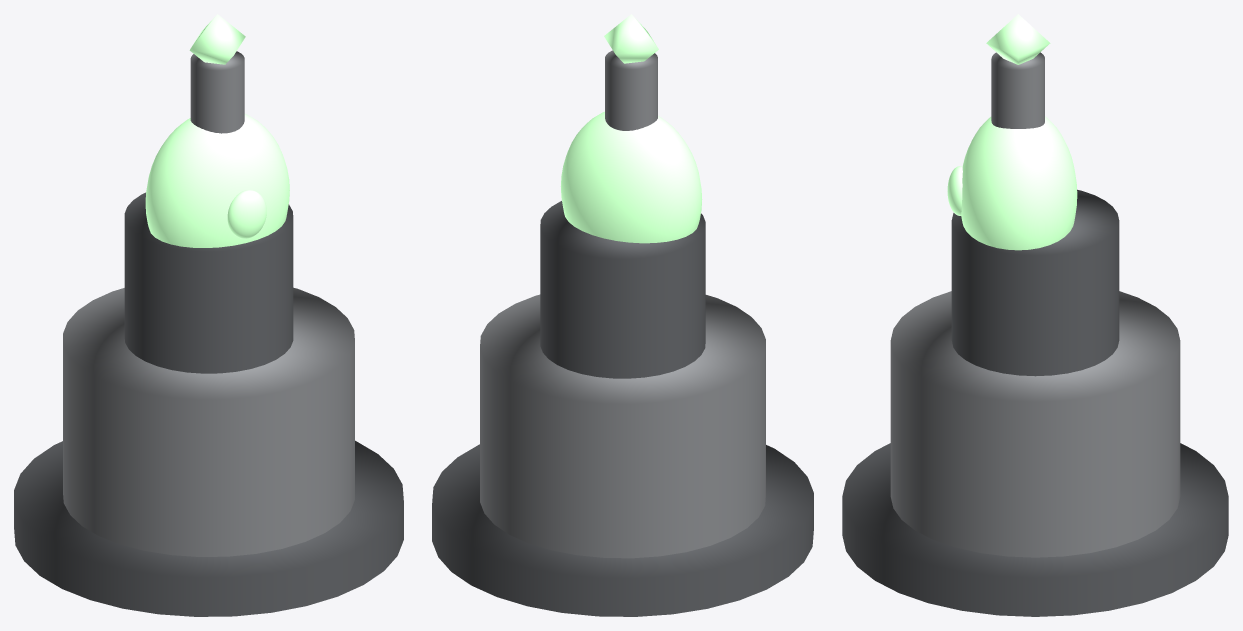
Rendered from poison_l1.glb.
3 views of the same model, side by side, from view 1: azimuth 30°, elevation 25°; view 2: azimuth 150°, elevation 25°; view 3: azimuth 270°, elevation 25° (orthographic). The views are drawn at different scales.
Parts seen in each view (by area): view 1: base, footing, shaft, vial, neck, cap, ember; view 2: base, footing, shaft, vial, neck, cap; view 3: base, footing, shaft, vial, neck, cap, ember.
Part boxes in pixels (x1,y1,x2,y2): base: [63, 287, 354, 556]; footing: [14, 440, 403, 616]; shaft: [124, 192, 293, 373]; vial: [145, 114, 289, 247]; neck: [190, 51, 244, 133]; cap: [189, 14, 245, 64]; ember: [227, 190, 266, 238]; base: [480, 294, 765, 558]; footing: [432, 444, 813, 616]; shaft: [540, 201, 705, 378]; vial: [560, 111, 702, 243]; neck: [605, 50, 657, 130]; cap: [604, 14, 658, 63]; base: [890, 291, 1180, 557]; footing: [842, 443, 1228, 616]; shaft: [951, 189, 1119, 376]; vial: [961, 116, 1077, 250]; neck: [991, 52, 1044, 128]; cap: [986, 14, 1050, 64]; ember: [947, 166, 962, 215].
Bounding box in the file's own units: 1.8 × 2.68 × 1.8.
